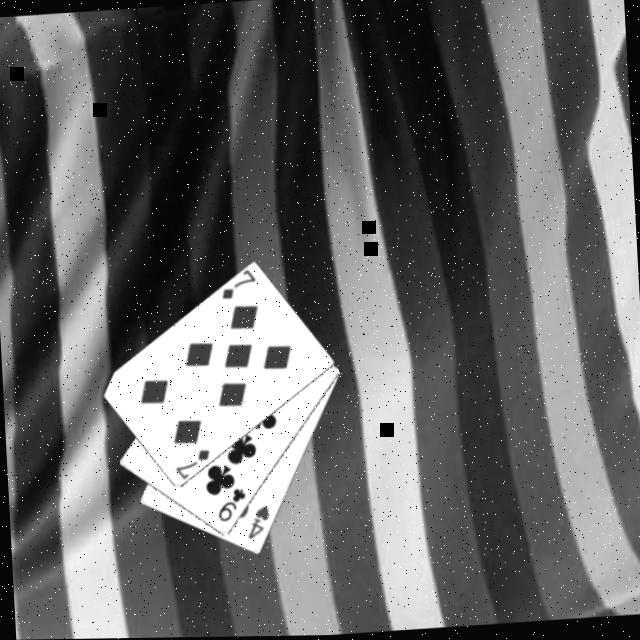4H: (245, 502, 275, 542)
7D: (172, 444, 215, 480), (218, 266, 262, 301)
9C: (215, 484, 251, 524)
